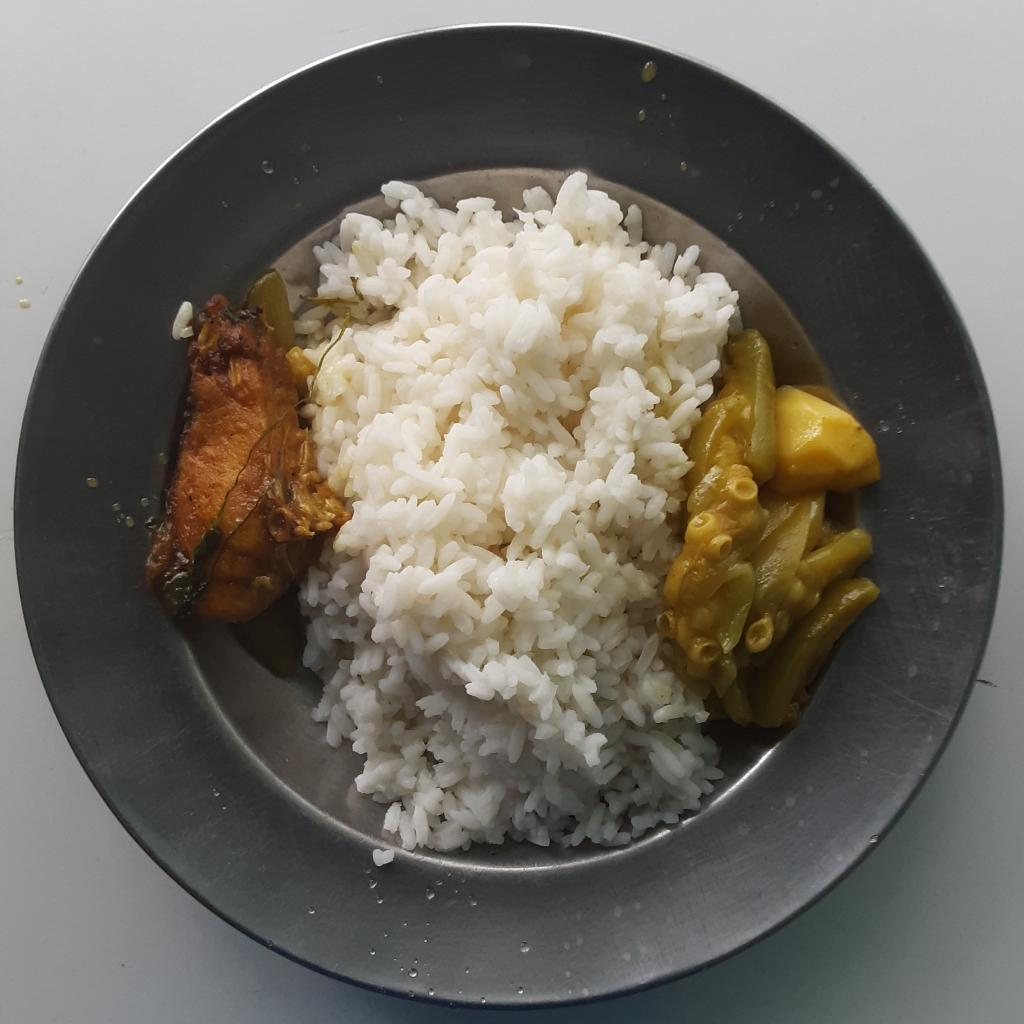fish: (151, 276, 357, 620)
potato: (766, 382, 891, 495)
potol: (653, 323, 880, 734)
rice: (300, 166, 735, 869), (164, 299, 197, 348)
